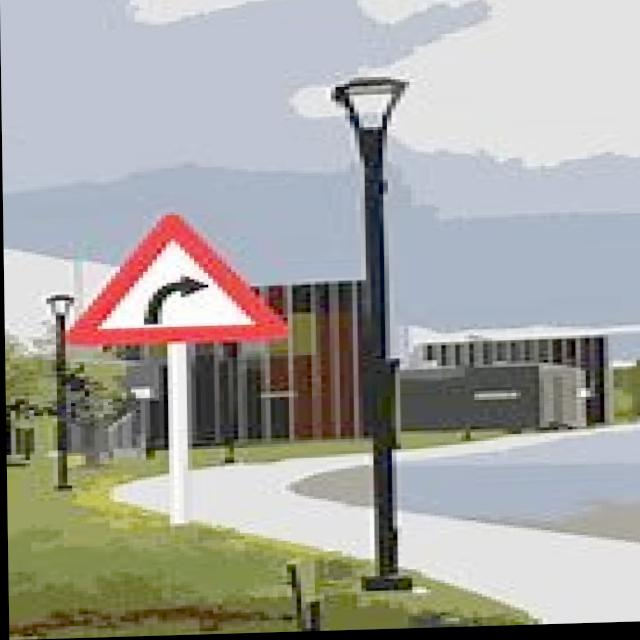RIGHT_HAND_CURVE: (62, 205, 302, 359)
